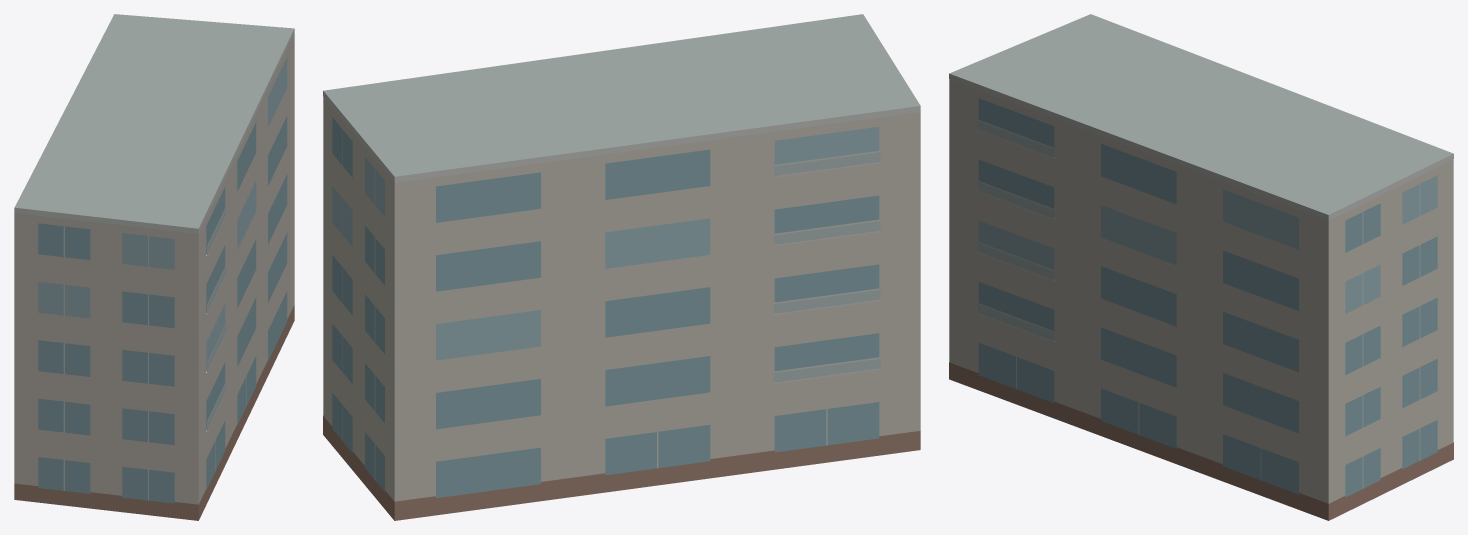
Rendered from survey-upis-32529043.glb.
3 views of the same model, side by side, from view 1: azimuth 30°, elevation 25°; view 2: azimuth 150°, elevation 25°; view 3: azimuth 270°, elevation 25° (orthographic). The views are drawn at different scales.
Parts seen in each view (by area): view 1: survey-upis-32529043.tmp; view 2: survey-upis-32529043.tmp; view 3: survey-upis-32529043.tmp.
Part boxes in pixels (<box>): survey-upis-32529043.tmp: <box>14,14,294,520</box>; survey-upis-32529043.tmp: <box>323,14,920,520</box>; survey-upis-32529043.tmp: <box>949,14,1453,520</box>.
Bounding box in the file's own units: 19.48 × 13.81 × 20.66.
